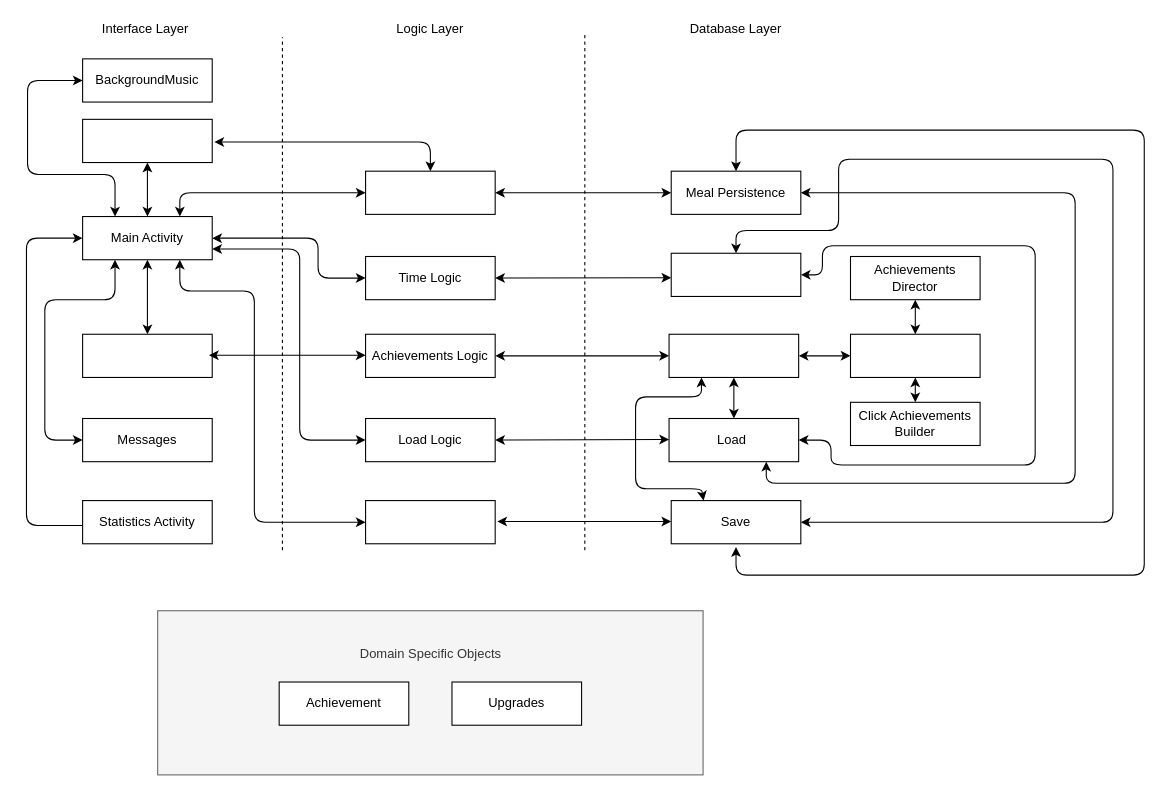
The diagram is 1173 pixels wide and 794 high, and some of its shapes have lost their labels. The centre of each missing label's shape, as x and y in pixels:
Achievements Activity: the point at 147,355
Achievements Data: the point at 914,355
Achievements Persistence: the point at 733,355
Meal Logic: the point at 429,192
Save Logic: the point at 429,522
Time Persistence: the point at 735,274
Upgrades Activity: the point at 147,140
